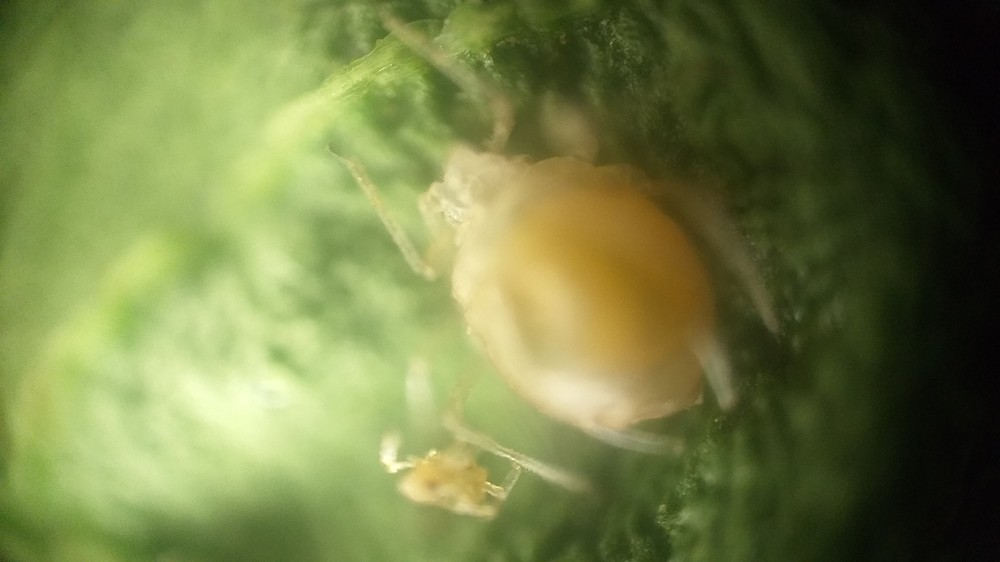Pulgon: (326, 40, 769, 468)
